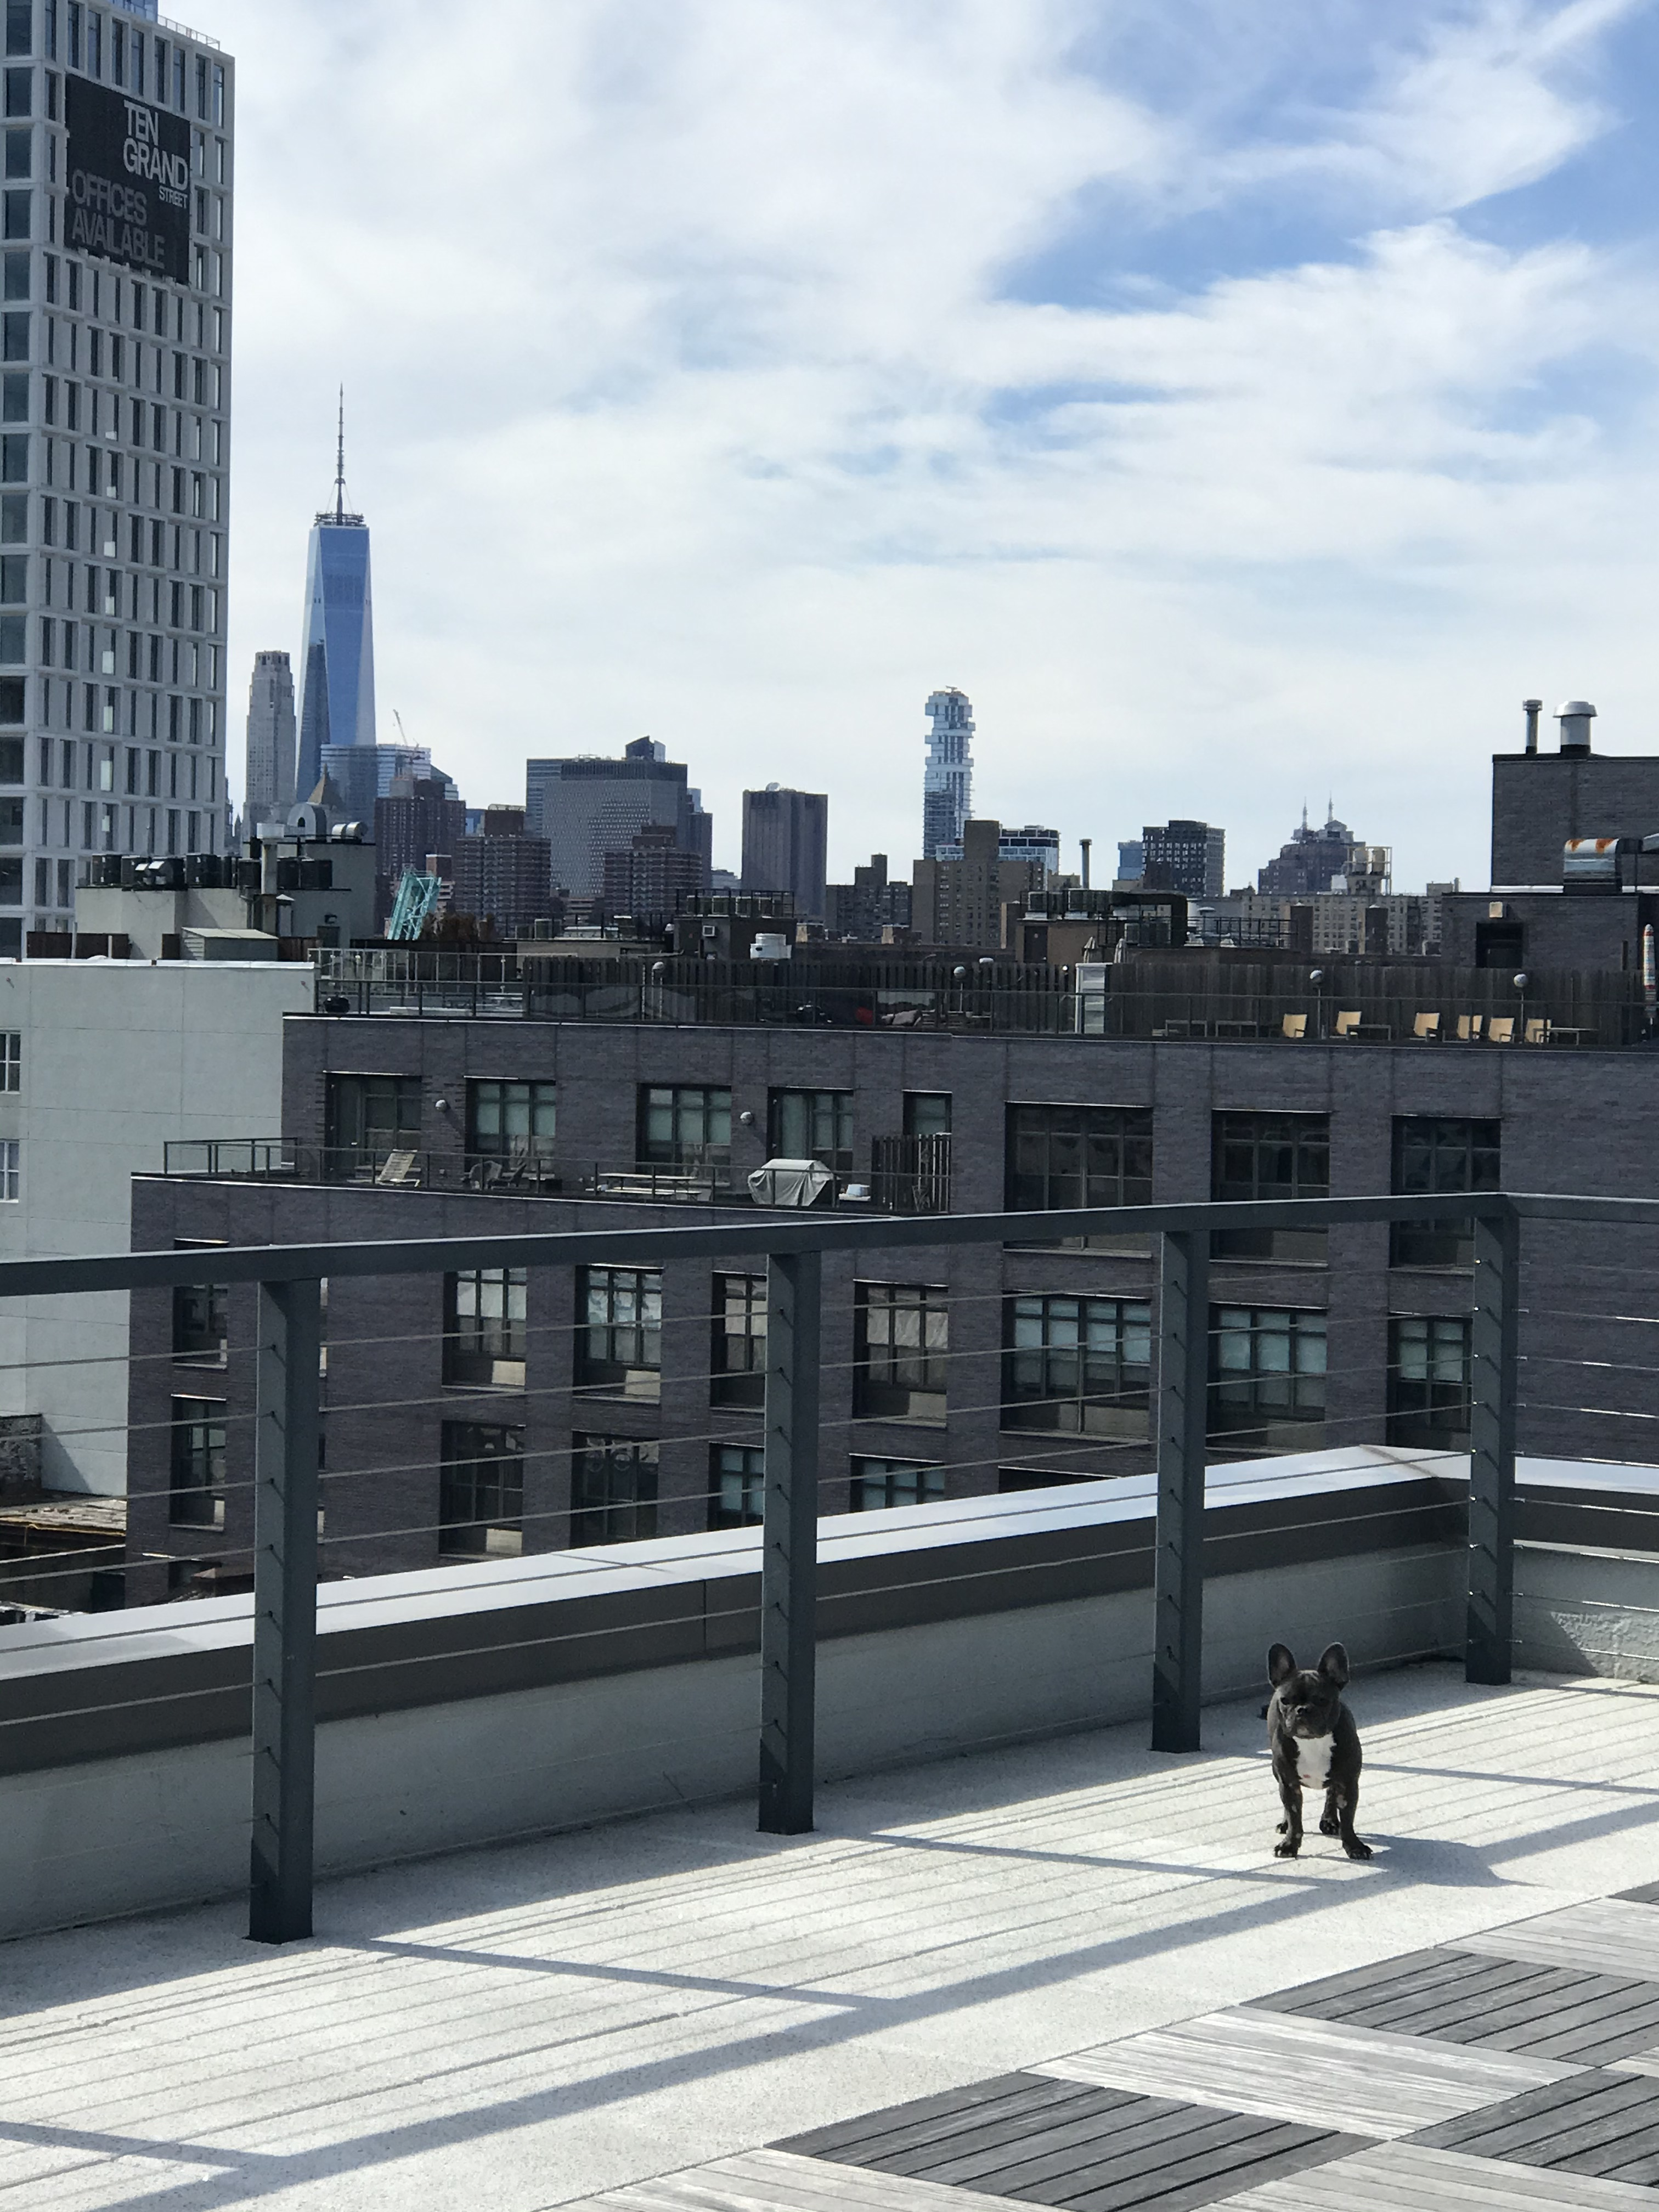lucy: (1255, 1632, 1384, 1865)
